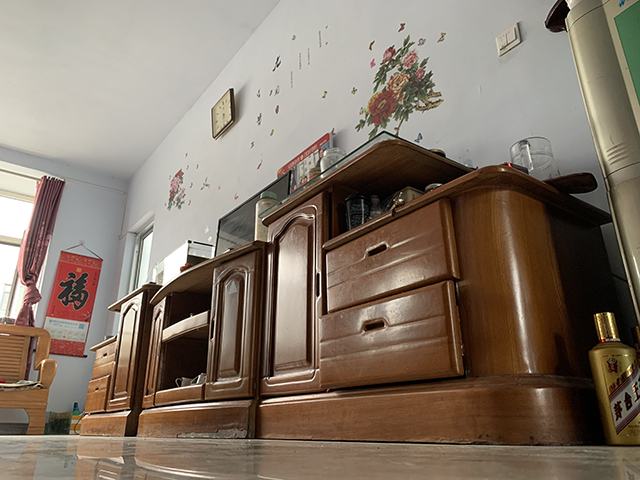cabinet: (72, 164, 556, 447)
sofa: (1, 321, 59, 437)
